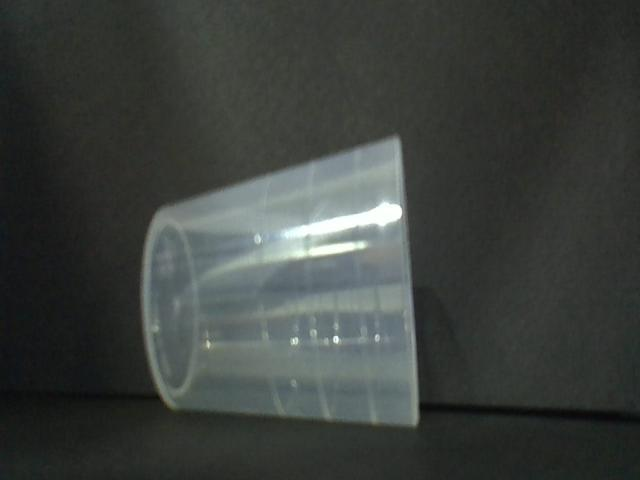cup: (137, 126, 432, 431)
